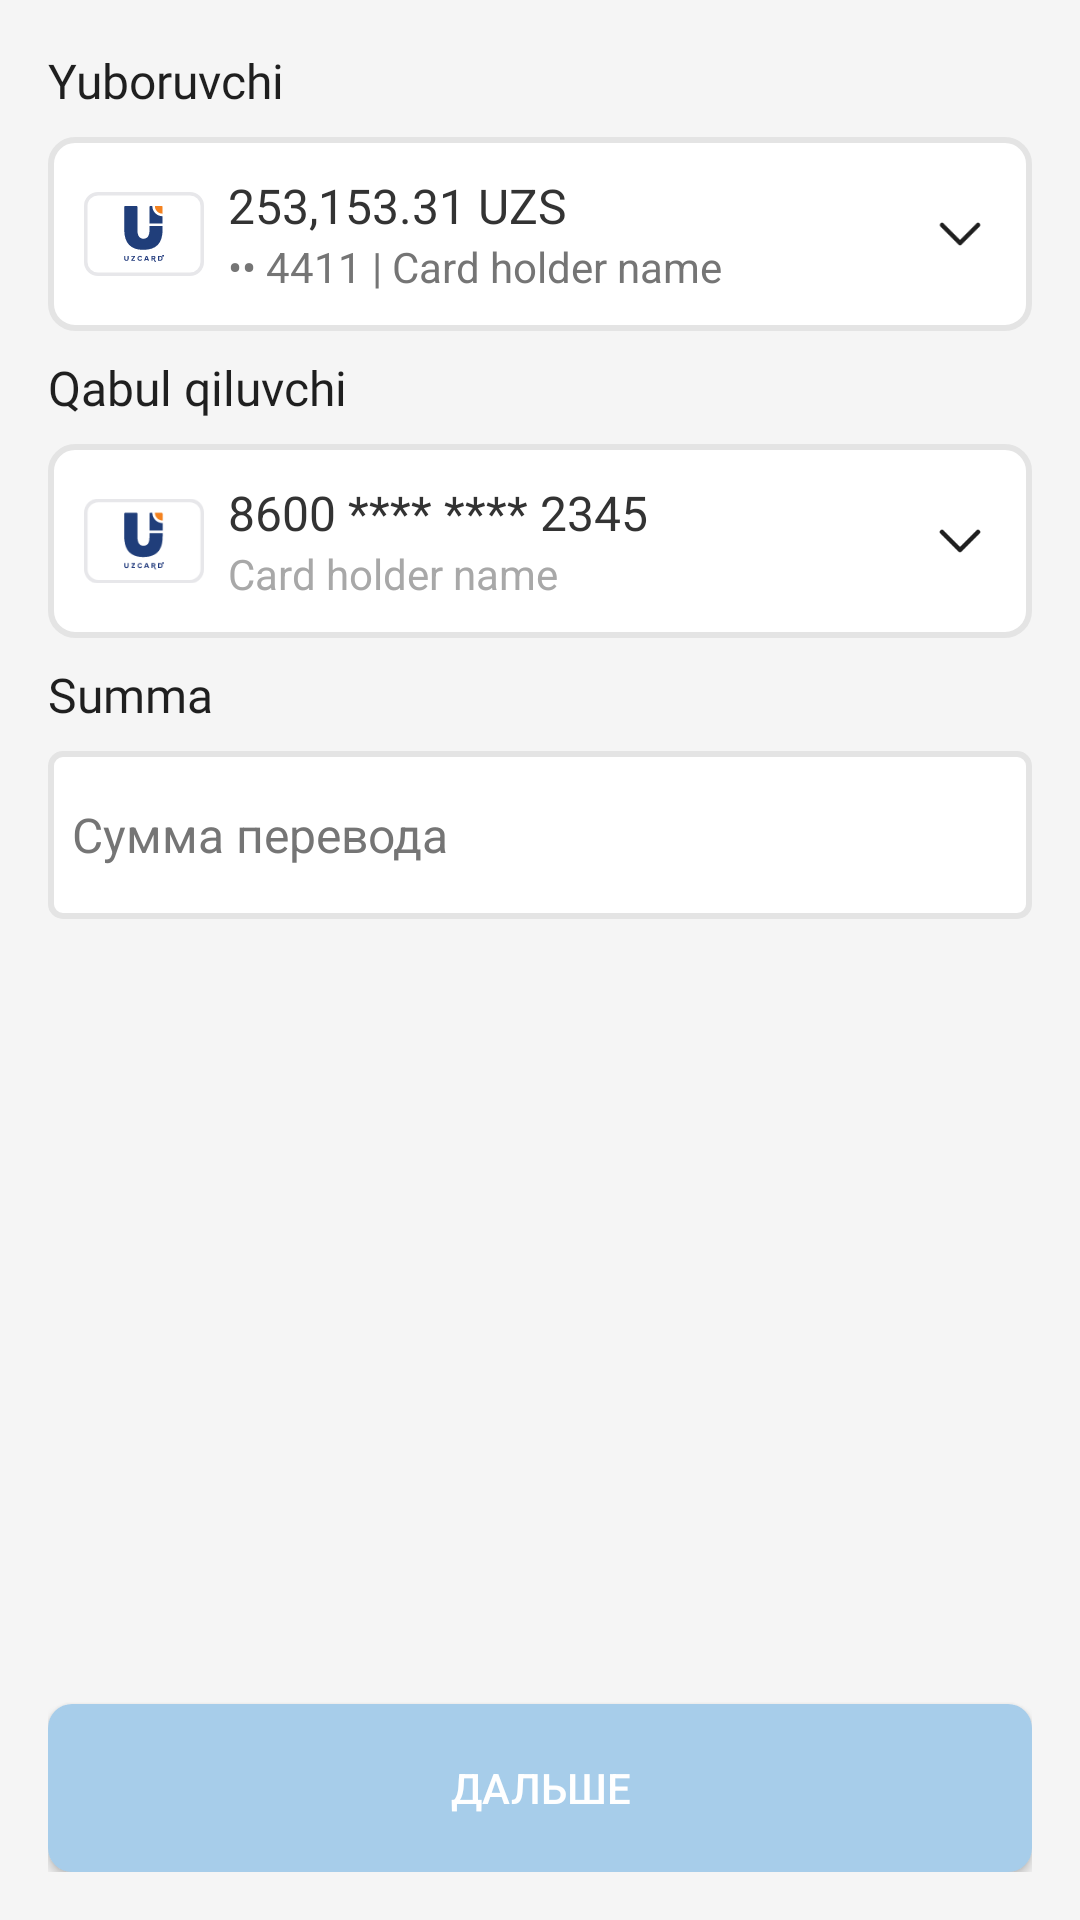

Screen size 1080px x 1920px. Icon name, then its center in pixels as point (x, y):
dropdown: point (960, 234), point (960, 541)
